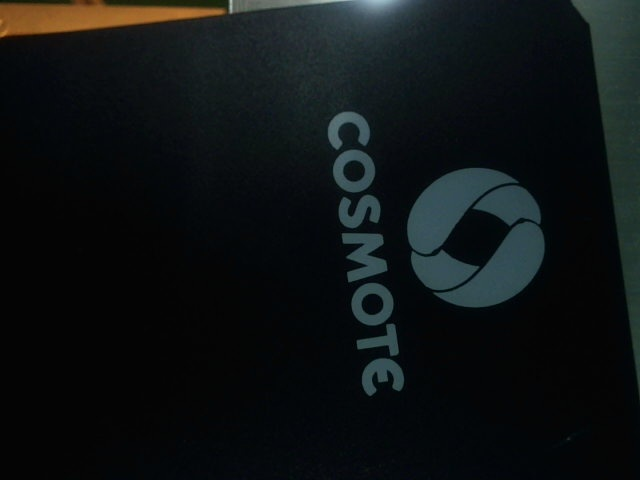AU_COSMOTE: (314, 105, 558, 411)
